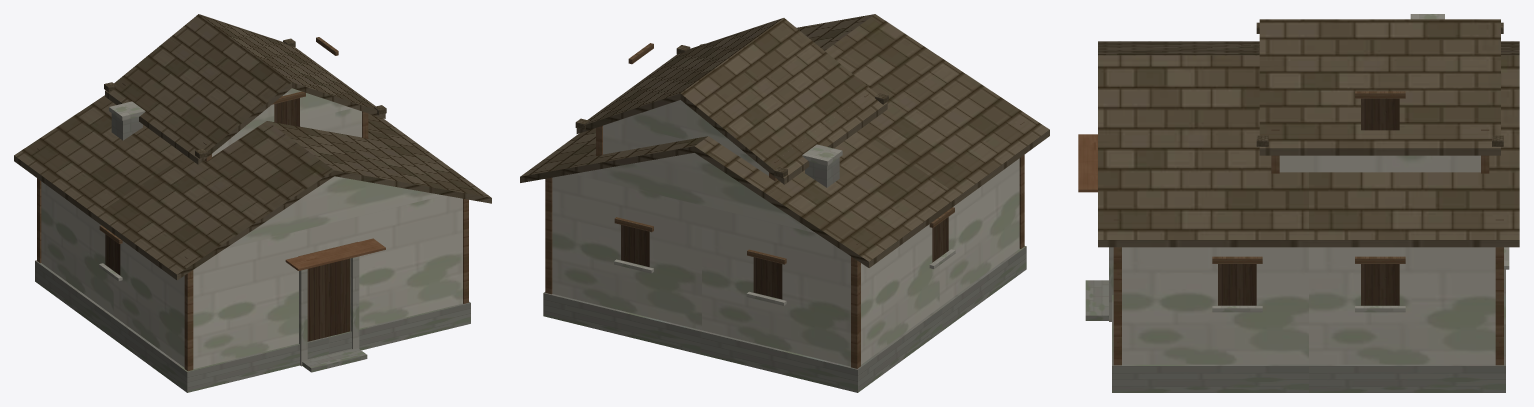
Rendered from ae_forest_stone_large_terrace_lod0.glb.
The picture shows the model from 3 angles, left to right: view 1: azimuth 30°, elevation 25°; view 2: azimuth 150°, elevation 25°; view 3: azimuth 270°, elevation 25°; orthographic projection. The views are drawn at different scales.
Parts seen in each view (by area): view 1: ae_forest_stone_large_terrace_lod0; view 2: ae_forest_stone_large_terrace_lod0; view 3: ae_forest_stone_large_terrace_lod0.
Part boxes in pixels (x1,y1,x2,y2): ae_forest_stone_large_terrace_lod0: (14,14,491,392); ae_forest_stone_large_terrace_lod0: (520,14,1049,392); ae_forest_stone_large_terrace_lod0: (1078,14,1519,392).
Bounding box in the file's own units: 7.9 × 5.5 × 7.42.
Materials: 1 (1 with a texture image).
